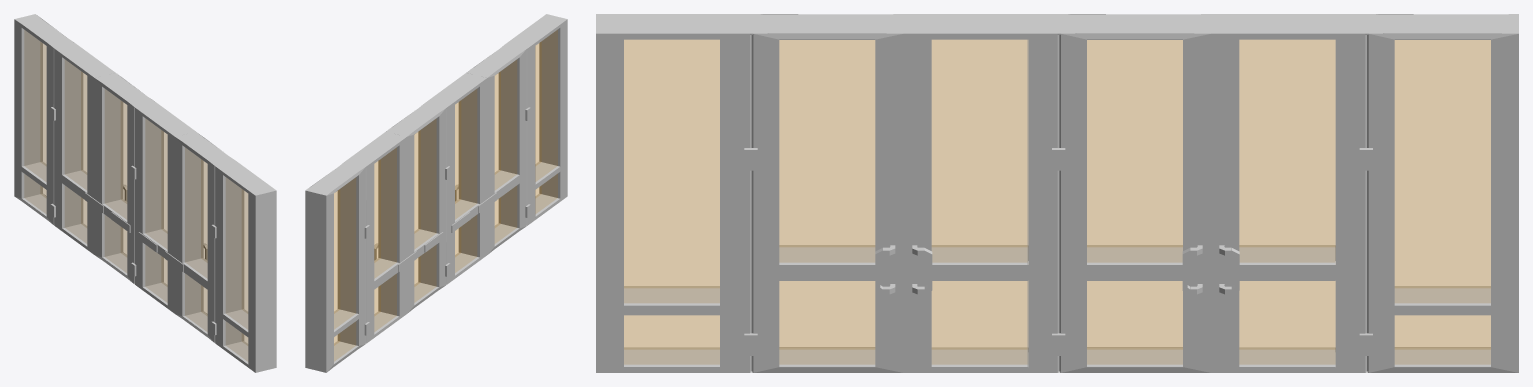
The model's file is mall_door 1.fbx.
3 renders of one model, left to right at view 1: azimuth 30°, elevation 25°; view 2: azimuth 150°, elevation 25°; view 3: azimuth 270°, elevation 25°, orthographic. The views are drawn at different scales.
Visible parts, largest first — view 1: Cube, WindowConnectors, Glass, PushButton, Hinges; view 2: Cube, WindowConnectors, Glass, PushButton, Hinges; view 3: Glass, Cube, WindowConnectors, Handles, Hinges.
Part boxes in pixels (x1,y1,x2,y2): Cube: (14, 14, 276, 372); WindowConnectors: (21, 28, 248, 364); Glass: (25, 31, 247, 360); PushButton: (85, 192, 183, 271); Hinges: (50, 107, 216, 335); Cube: (305, 14, 567, 372); WindowConnectors: (333, 28, 560, 364); Glass: (334, 30, 557, 360); PushButton: (398, 192, 496, 271); Hinges: (364, 107, 530, 335); Glass: (624, 40, 1490, 363); Cube: (596, 14, 1518, 372); WindowConnectors: (623, 40, 1490, 367); Handles: (875, 245, 1239, 294); Hinges: (744, 148, 1372, 355).
Size of the model in its own units: 136 by 800 by 1973.
